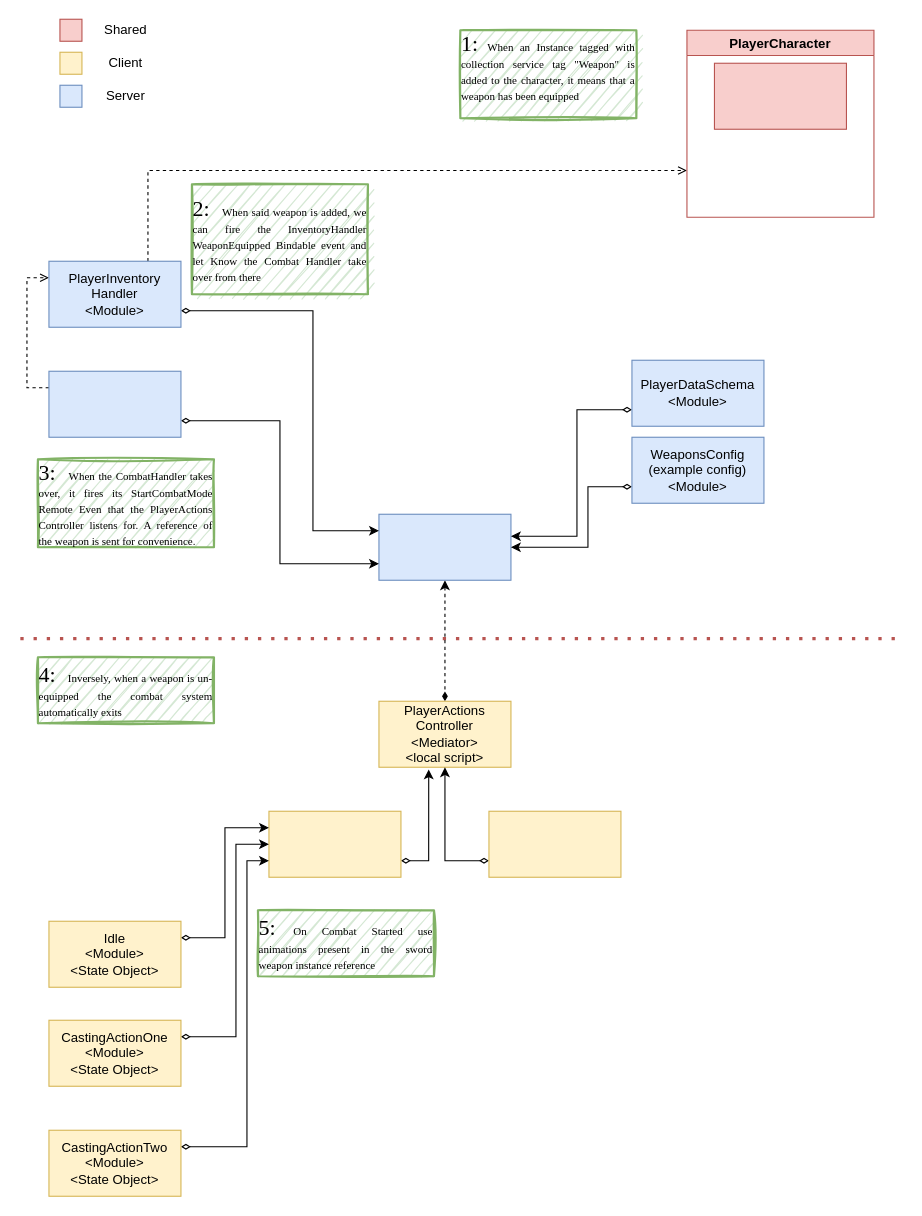
Image size: 922x1216. Some labels were removed from this diagram. The shapes that lost their labels are listed below. From the top down, each one's centre as x and y in pixels, then its label:
At pixel 779 95: "Sword <Tool>".
At pixel 114 403: "PlayerCombat Handler <module>".
At pixel 444 546: "PlayerActions Handler <Mediator> <script>".
At pixel 334 843: "CombatController <Module> <State Context>".
At pixel 554 843: "PlayerInventory Controller <Module>".
